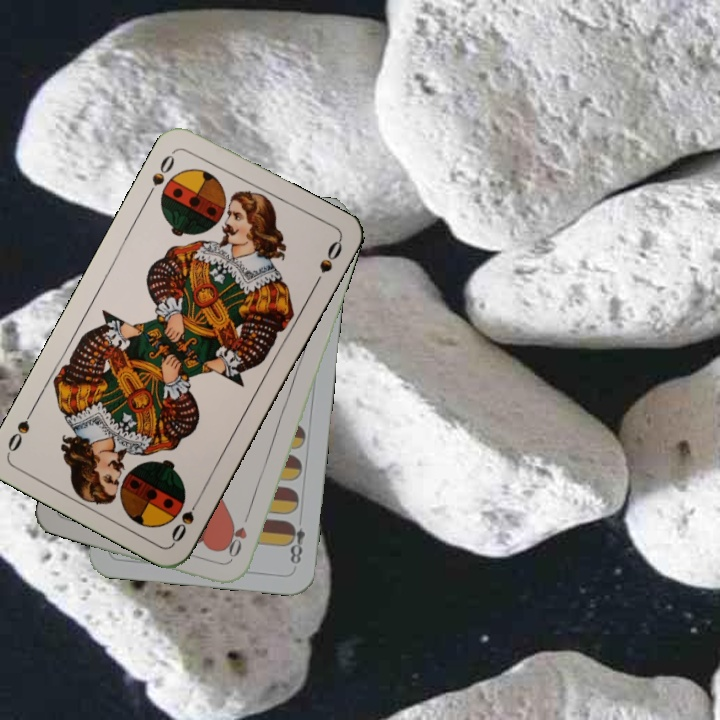E8: (283, 518, 308, 570)
HO: (224, 507, 253, 564)
SO: (167, 491, 205, 545), (143, 147, 179, 201)
